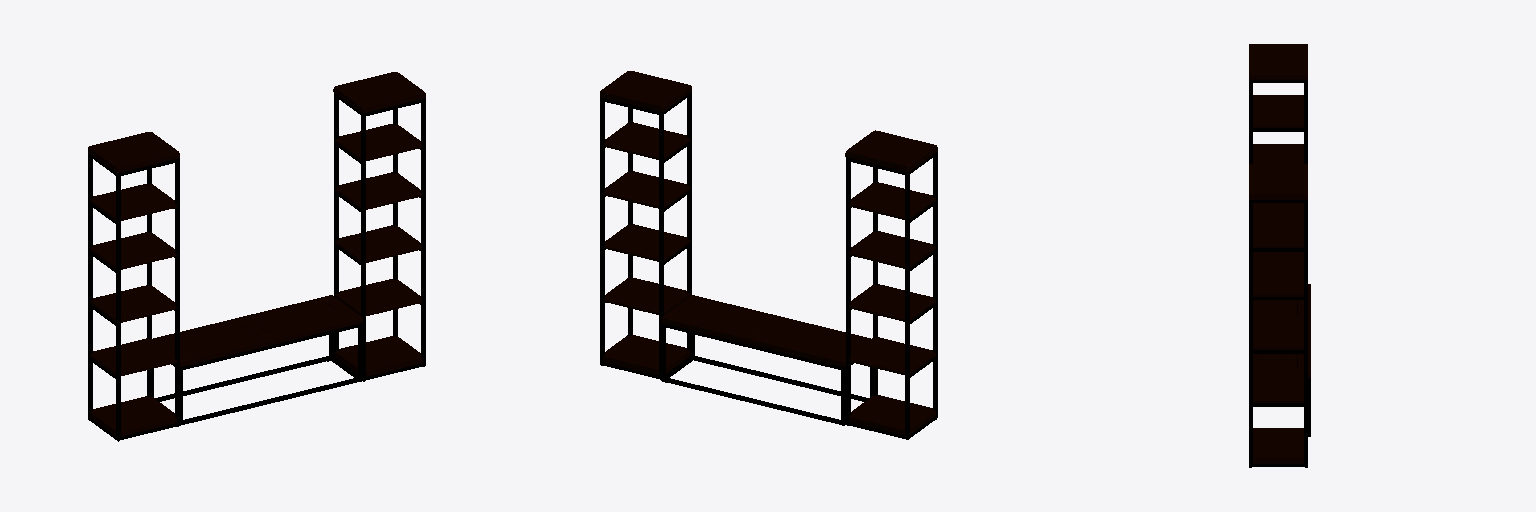
File: Shelving_origin.obj
The picture shows the model from 3 angles: view 1: azimuth 30°, elevation 25°; view 2: azimuth 150°, elevation 25°; view 3: azimuth 270°, elevation 25°; orthographic projection.
Visible parts, largest first — view 1: Frame_Cube.001, Board_wide_Cube.006, Board_top.001_Cube.005, Board_top_Cube.005, Board_40mm.001_Cube.007, Board_40mm_Cube.007, Board_20mm.001_Cube.008, Board_20mm.007_Cube.008, Board_20mm.002_Cube.008, Board_20mm.003_Cube.008, Board_20mm.004_Cube.008, Board_20mm_Cube.008 (+2 smaller); view 2: Frame_Cube.001, Board_wide_Cube.006, Board_top_Cube.005, Board_top.001_Cube.005, Board_40mm.001_Cube.007, Board_40mm_Cube.007, Board_20mm.001_Cube.008, Board_20mm.005_Cube.008, Board_20mm.003_Cube.008, Board_20mm.002_Cube.008, Board_20mm.004_Cube.008, Board_20mm.007_Cube.008 (+2 smaller); view 3: Frame_Cube.001, Board_top.001_Cube.005, Board_top_Cube.005, Board_wide_Cube.006, Board_40mm_Cube.007, Board_20mm.002_Cube.008, Board_20mm.005_Cube.008, Board_20mm.006_Cube.008, Board_20mm.007_Cube.008, Board_20mm_Cube.008, Board_20mm.004_Cube.008, Board_20mm.001_Cube.008 (+1 smaller).
Boxes of the visible parts, <box> form: Frame_Cube.001: <box>88,93,425,440</box>; Board_wide_Cube.006: <box>153,295,362,366</box>; Board_top.001_Cube.005: <box>333,72,425,112</box>; Board_top_Cube.005: <box>88,132,179,172</box>; Board_40mm.001_Cube.007: <box>90,396,176,436</box>; Board_40mm_Cube.007: <box>335,336,422,376</box>; Board_20mm.001_Cube.008: <box>90,338,176,375</box>; Board_20mm.007_Cube.008: <box>335,225,421,262</box>; Board_20mm.002_Cube.008: <box>335,124,421,160</box>; Board_20mm.003_Cube.008: <box>90,285,176,322</box>; Board_20mm.004_Cube.008: <box>90,232,176,269</box>; Board_20mm_Cube.008: <box>335,172,421,209</box>; Frame_Cube.001: <box>600,92,937,439</box>; Board_wide_Cube.006: <box>661,295,870,366</box>; Board_top_Cube.005: <box>845,130,937,171</box>; Board_top.001_Cube.005: <box>600,71,691,111</box>; Board_40mm.001_Cube.007: <box>849,395,935,435</box>; Board_40mm_Cube.007: <box>603,335,689,375</box>; Board_20mm.001_Cube.008: <box>849,337,935,374</box>; Board_20mm.005_Cube.008: <box>849,182,935,219</box>; Board_20mm.003_Cube.008: <box>849,284,935,321</box>; Board_20mm.002_Cube.008: <box>604,122,689,159</box>; Board_20mm.004_Cube.008: <box>849,231,935,268</box>; Board_20mm.007_Cube.008: <box>604,224,689,261</box>; Frame_Cube.001: <box>1249,80,1310,466</box>; Board_top.001_Cube.005: <box>1249,164,1307,199</box>; Board_top_Cube.005: <box>1249,44,1307,79</box>; Board_wide_Cube.006: <box>1253,284,1310,377</box>; Board_40mm_Cube.007: <box>1253,428,1303,463</box>; Board_20mm.002_Cube.008: <box>1253,215,1303,247</box>; Board_20mm.005_Cube.008: <box>1253,95,1303,127</box>; Board_20mm.006_Cube.008: <box>1253,370,1303,402</box>; Board_20mm.007_Cube.008: <box>1253,317,1303,349</box>; Board_20mm_Cube.008: <box>1253,264,1303,296</box>; Board_20mm.004_Cube.008: <box>1253,144,1303,163</box>; Board_20mm.001_Cube.008: <box>1253,252,1303,263</box>.
Size of the model in its own units: 2.31 by 1.96 by 0.406.